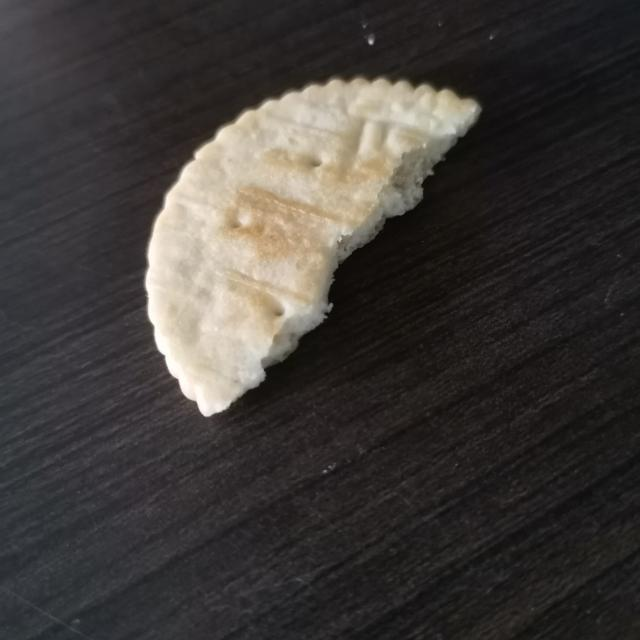Broken: (143, 72, 481, 417)
